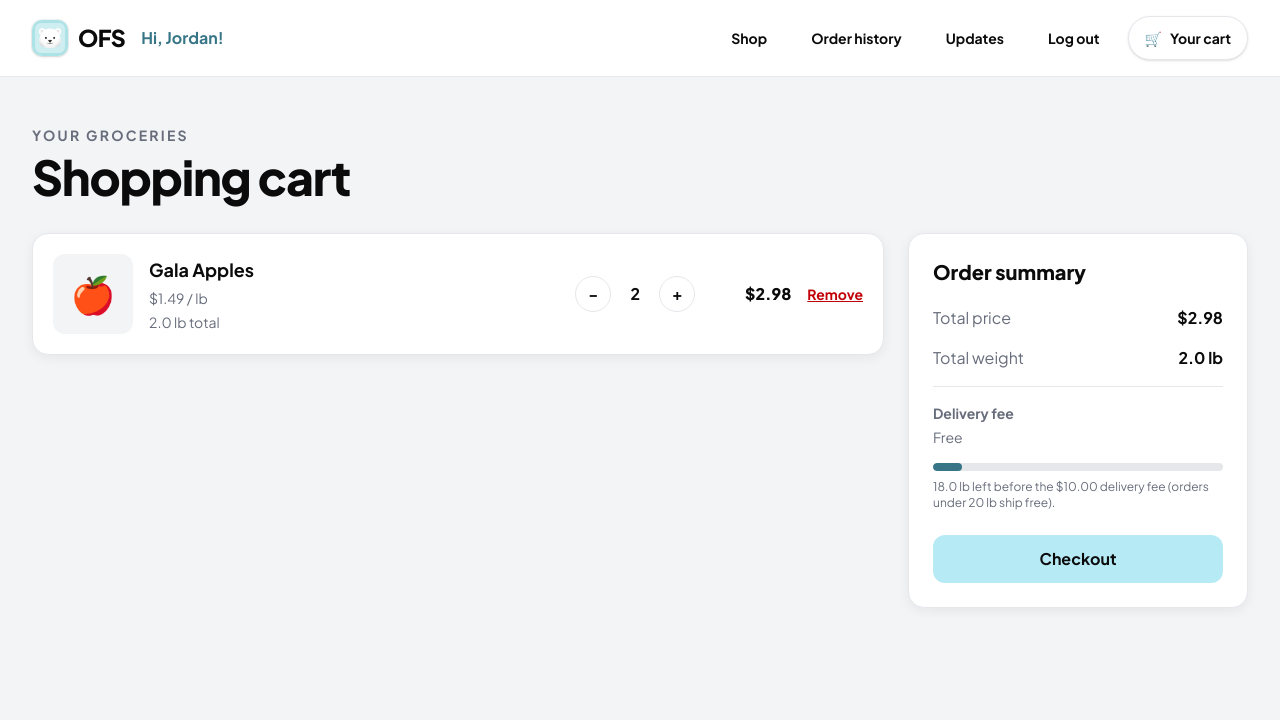
Test: cart totals › recalculates when a quantity goes up or down
The image size is (1280, 720).
expect the heading "Gala Apples" is shown: met, box top-left (149, 258), bottom-right (254, 281)
Click the button "+" at (677, 294), box top-left (659, 276), bottom-right (695, 312)
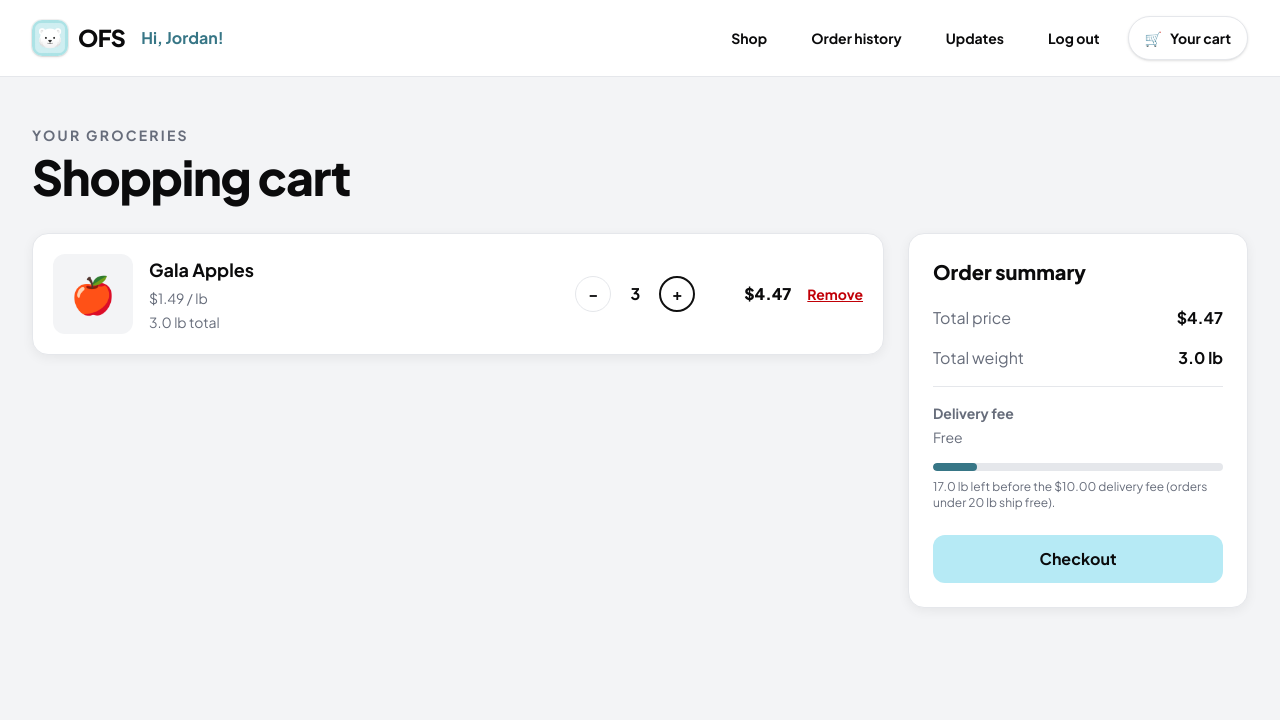
expect the text named "Quantity 3" is shown: met, box top-left (630, 283), bottom-right (640, 304)
Click the button named "Decrease Gala Apples quantity" at (593, 294), box top-left (575, 276), bottom-right (611, 312)
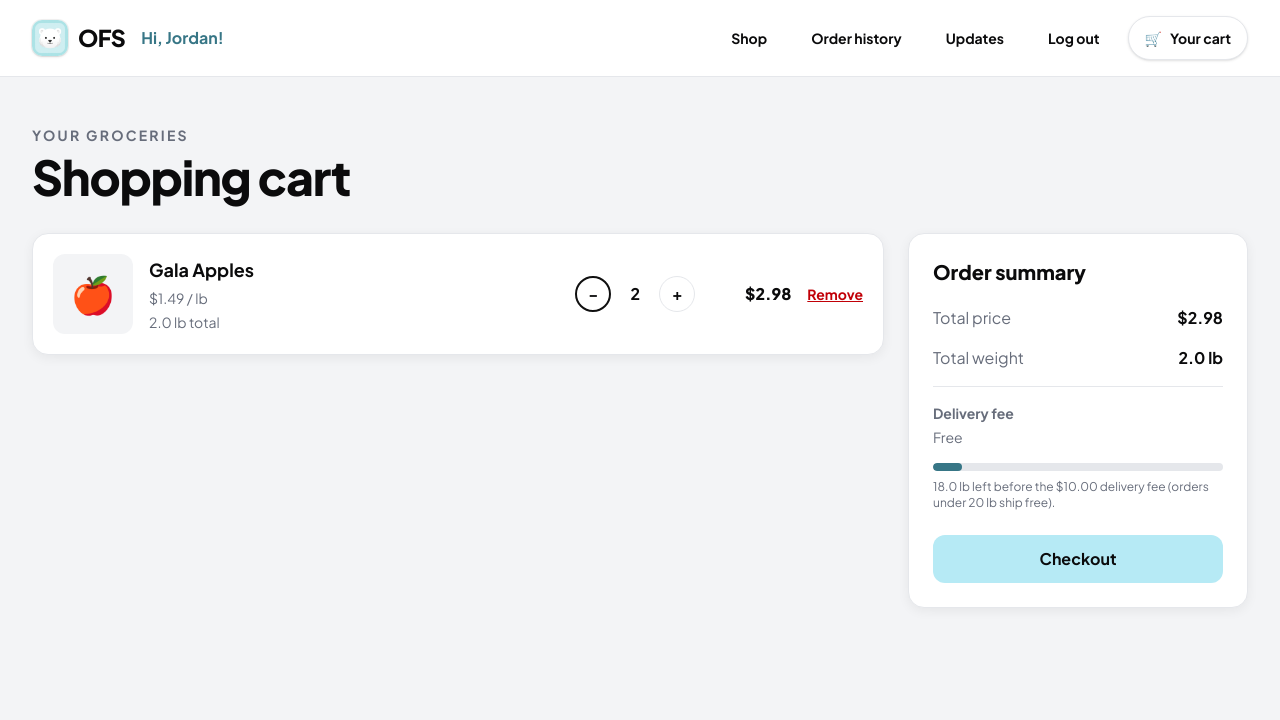
expect the text named "Quantity 2" is shown: met, box top-left (630, 283), bottom-right (640, 304)
